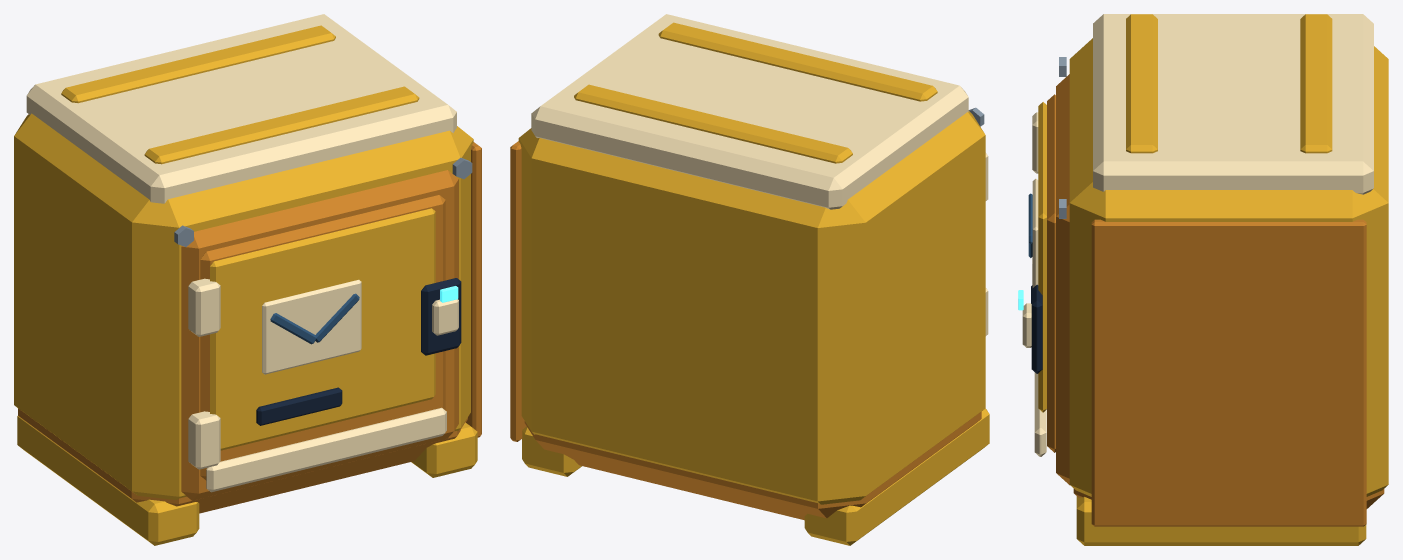
File: cargo_crate.glb
3 views of the same model, side by side, from view 1: azimuth 30°, elevation 25°; view 2: azimuth 150°, elevation 25°; view 3: azimuth 270°, elevation 25° (orthographic). The views are drawn at different scales.
Parts seen in each view (by area): view 1: cargo_crate__CourierYellow, cargo_crate__Cream, cargo_crate__Ochre, cargo_crate__InkNavy, cargo_crate__Cobalt, cargo_crate__Metal; view 2: cargo_crate__CourierYellow, cargo_crate__Cream, cargo_crate__Ochre; view 3: cargo_crate__Ochre, cargo_crate__CourierYellow, cargo_crate__Cream, cargo_crate__InkNavy.
Part boxes in pixels (x1=…): cargo_crate__CourierYellow: x1=14, y1=25, x2=477, y2=545; cargo_crate__Cream: x1=26, y1=14, x2=458, y2=492; cargo_crate__Ochre: x1=18, y1=142, x2=481, y2=513; cargo_crate__InkNavy: x1=256, y1=278, x2=461, y2=425; cargo_crate__Cobalt: x1=270, y1=293, x2=359, y2=344; cargo_crate__Metal: x1=174, y1=157, x2=472, y2=246; cargo_crate__CourierYellow: x1=518, y1=22, x2=989, y2=545; cargo_crate__Cream: x1=531, y1=14, x2=988, y2=335; cargo_crate__Ochre: x1=510, y1=141, x2=981, y2=520; cargo_crate__Ochre: x1=1047, y1=74, x2=1384, y2=526; cargo_crate__CourierYellow: x1=1038, y1=14, x2=1388, y2=545; cargo_crate__Cream: x1=1022, y1=14, x2=1373, y2=456; cargo_crate__InkNavy: x1=1031, y1=284, x2=1042, y2=373.
Bounding box in the file's own units: 0.9785 × 0.995 × 0.8705.
